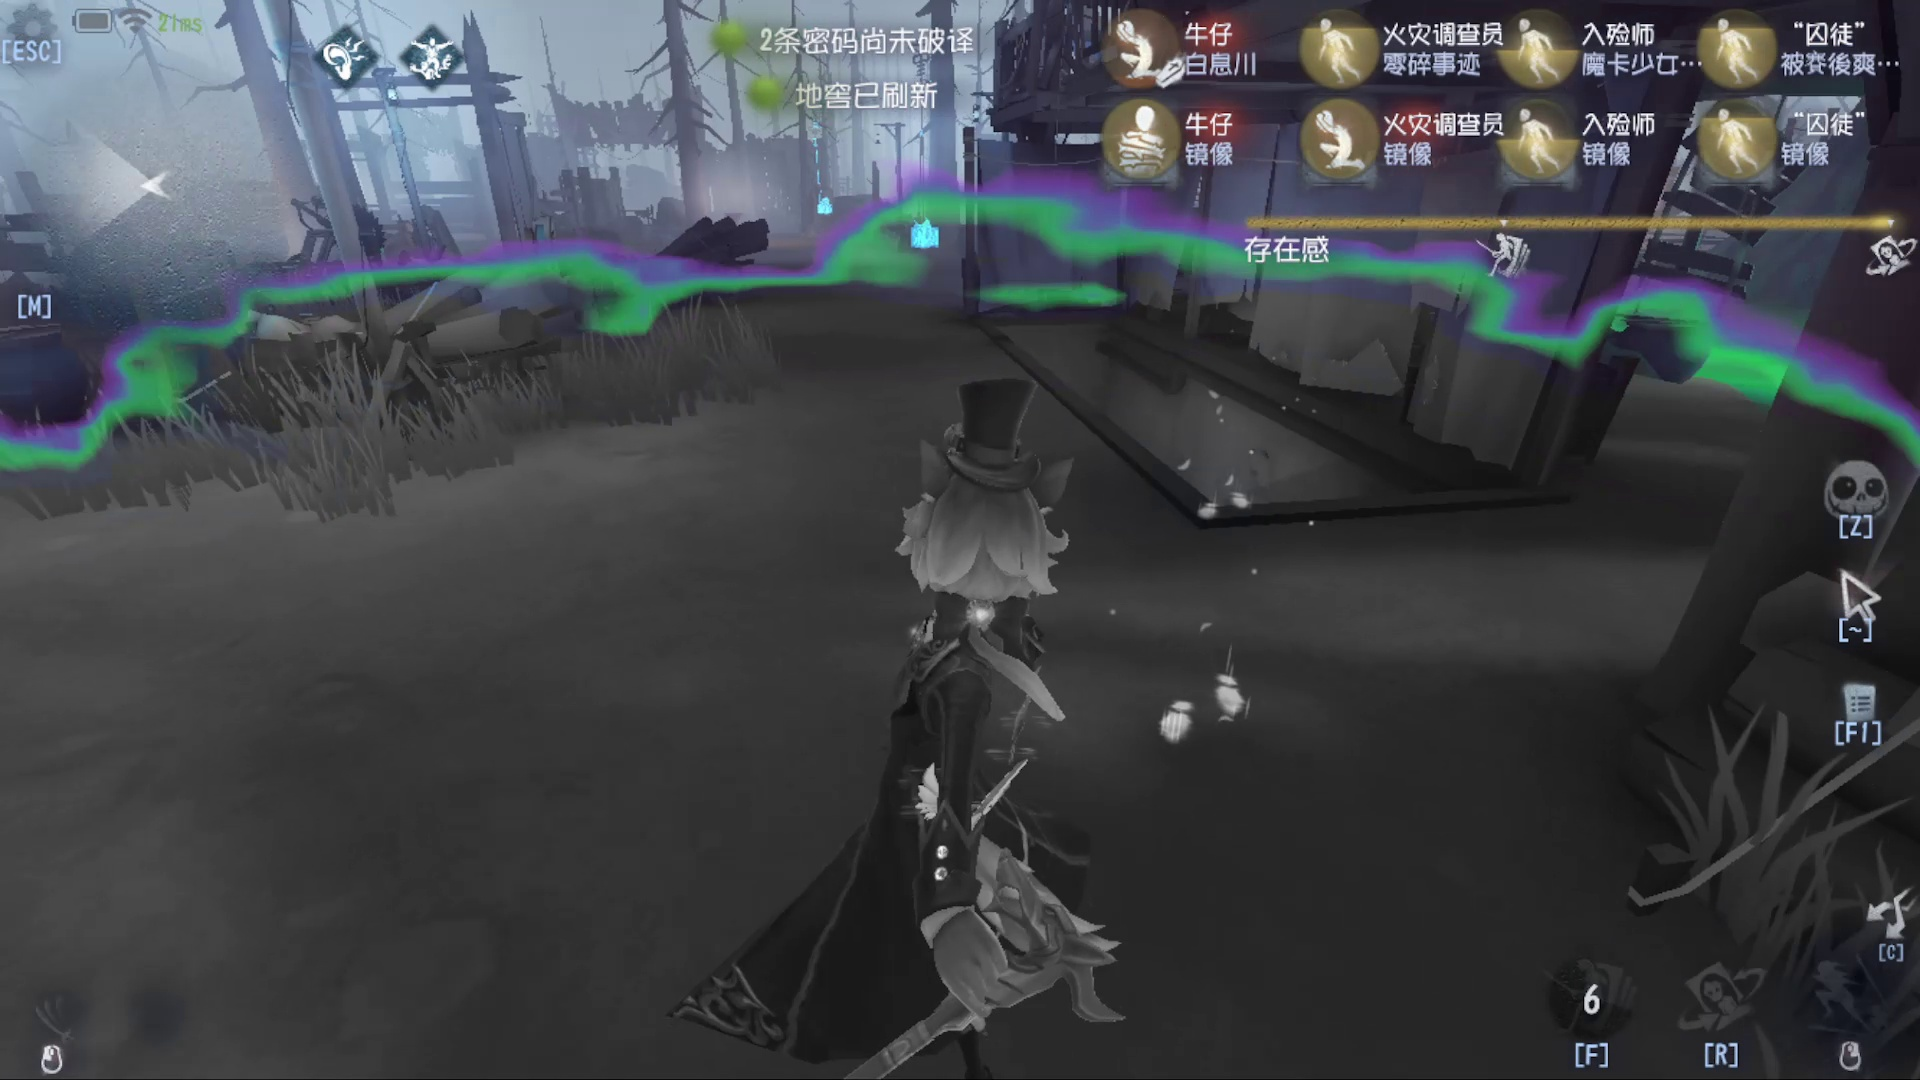密码机: (894, 95, 952, 252), (800, 95, 847, 225)
